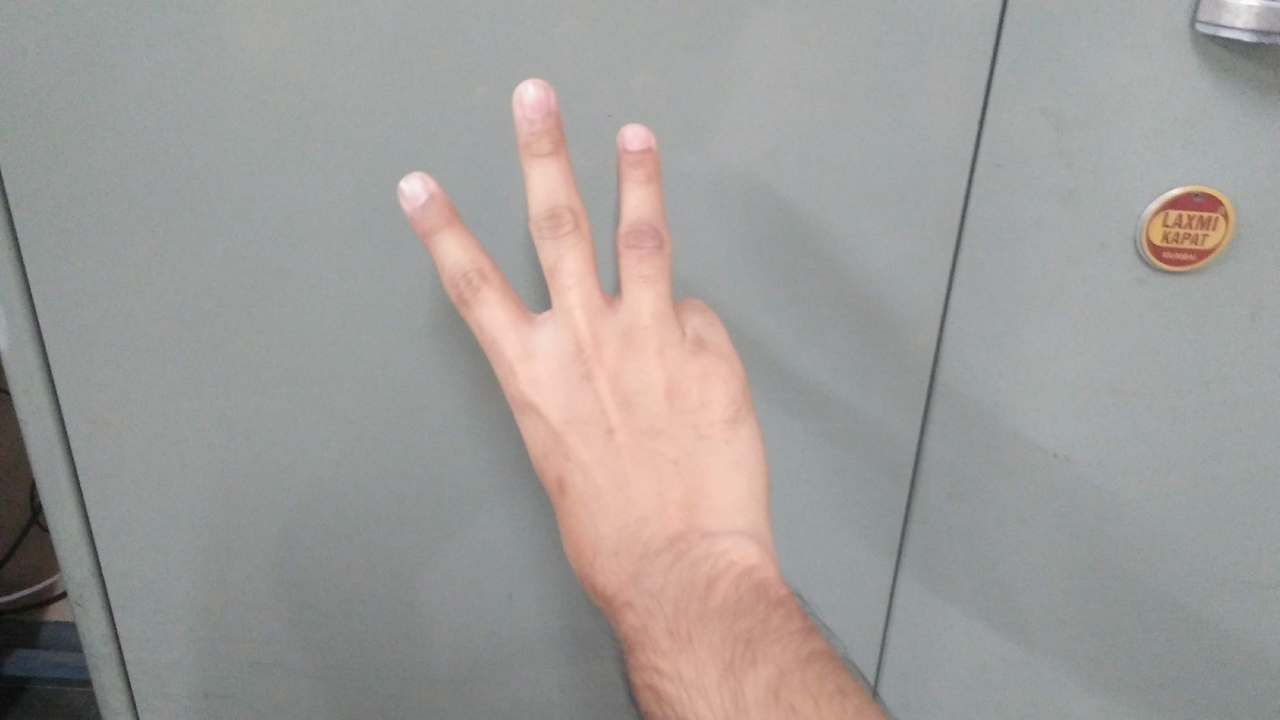fingertip: (386, 164, 454, 222), (508, 74, 562, 126), (608, 120, 664, 164)
